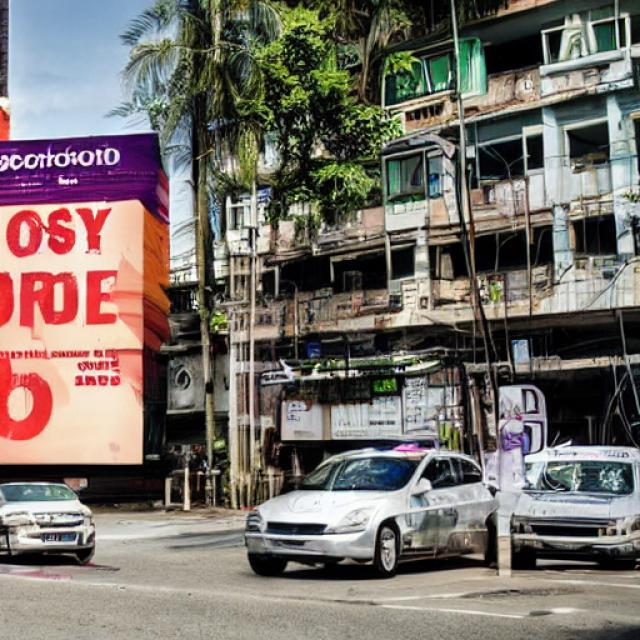Billboard: (0, 137, 147, 466)
